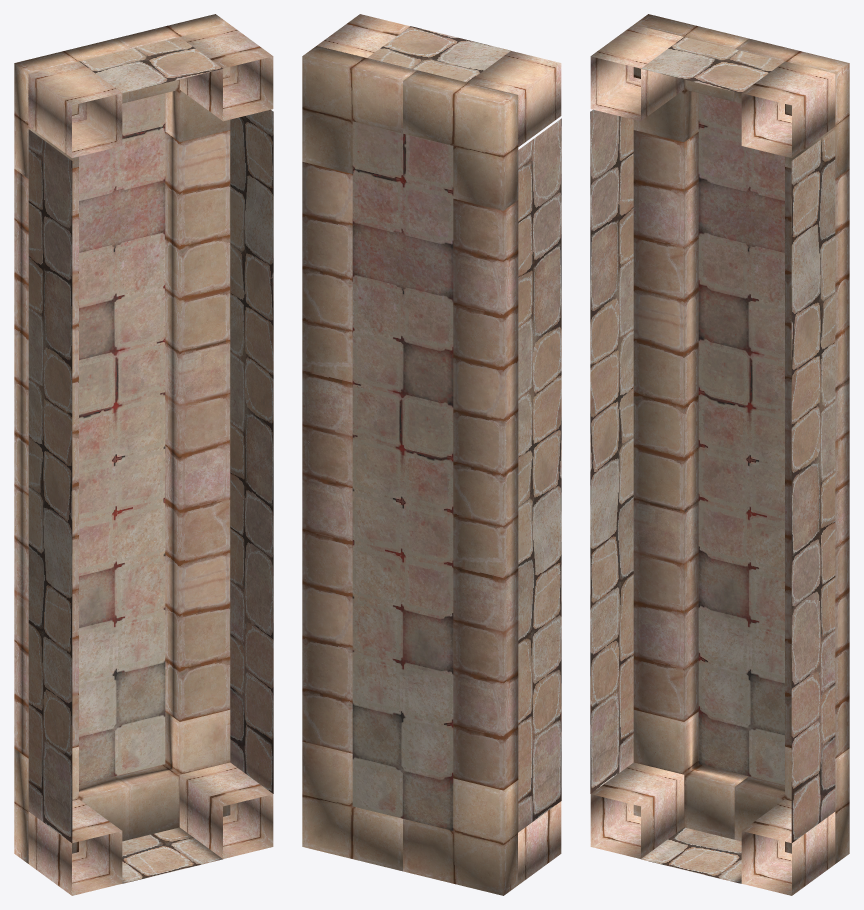
The model's file is MeganeRealStep001.obj.
3 views of the same model, side by side, from view 1: azimuth 30°, elevation 25°; view 2: azimuth 150°, elevation 25°; view 3: azimuth 330°, elevation 25° (orthographic).
Parts seen in each view (by area): view 1: pasted__SandWorldHomeMeganeStep004__WallBrickBase04, pPlane173__FloorStoneBase02, pasted__polySurface530__EdgeStoneBlock02, pasted__Edge00_Low596__EdgeStoneBlock03; view 2: pPlane173__FloorStoneBase02, pasted__polySurface530__EdgeStoneBlock02, pasted__Edge00_Low596__EdgeStoneBlock03, pasted__SandWorldHomeMeganeStep004__WallBrickBase04; view 3: pasted__SandWorldHomeMeganeStep004__WallBrickBase04, pPlane173__FloorStoneBase02, pasted__polySurface530__EdgeStoneBlock02, pasted__Edge00_Low596__EdgeStoneBlock03.
Boxes of the visible parts, bbox=[...] form: pasted__SandWorldHomeMeganeStep004__WallBrickBase04: bbox=[28, 37, 273, 883]; pPlane173__FloorStoneBase02: bbox=[79, 93, 165, 784]; pasted__polySurface530__EdgeStoneBlock02: bbox=[14, 130, 230, 758]; pasted__Edge00_Low596__EdgeStoneBlock03: bbox=[14, 14, 273, 895]; pPlane173__FloorStoneBase02: bbox=[352, 121, 453, 830]; pasted__polySurface530__EdgeStoneBlock02: bbox=[302, 162, 518, 790]; pasted__Edge00_Low596__EdgeStoneBlock03: bbox=[302, 14, 561, 895]; pasted__SandWorldHomeMeganeStep004__WallBrickBase04: bbox=[367, 26, 561, 832]; pasted__SandWorldHomeMeganeStep004__WallBrickBase04: bbox=[590, 37, 835, 883]; pPlane173__FloorStoneBase02: bbox=[698, 93, 784, 784]; pasted__polySurface530__EdgeStoneBlock02: bbox=[633, 130, 849, 758]; pasted__Edge00_Low596__EdgeStoneBlock03: bbox=[590, 14, 849, 895].
Bounding box in the file's own units: 400 × 1500 × 200.
Materials: 5 (4 with a texture image).
